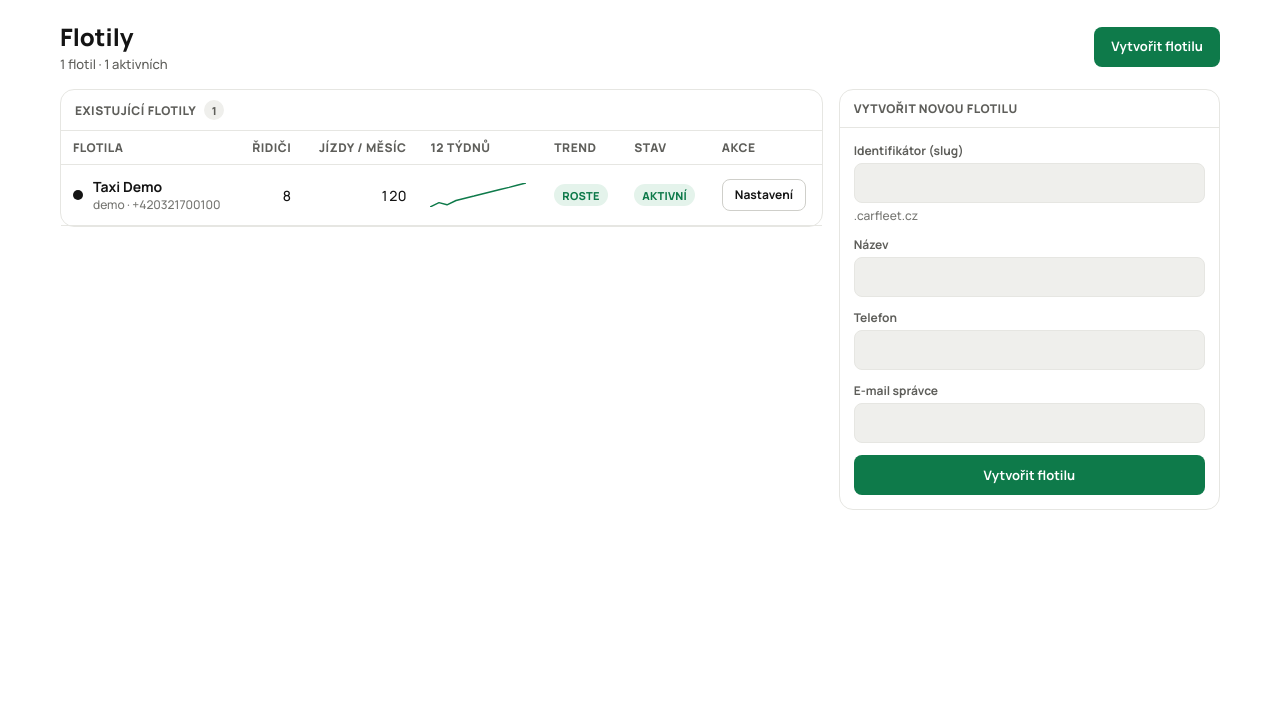
Test: AdminFleetsPage (UC-021 WI-7) › copies the one-time password to the clipboard
Expected: the text "Taxi Demo" is shown, x1=93 y1=177 x2=162 y2=196
Type "kolin" into the field labelled "Identifikátor (slug)".
click(1029, 183); type("kolin")  # box x1=865 y1=164 x2=1194 y2=202
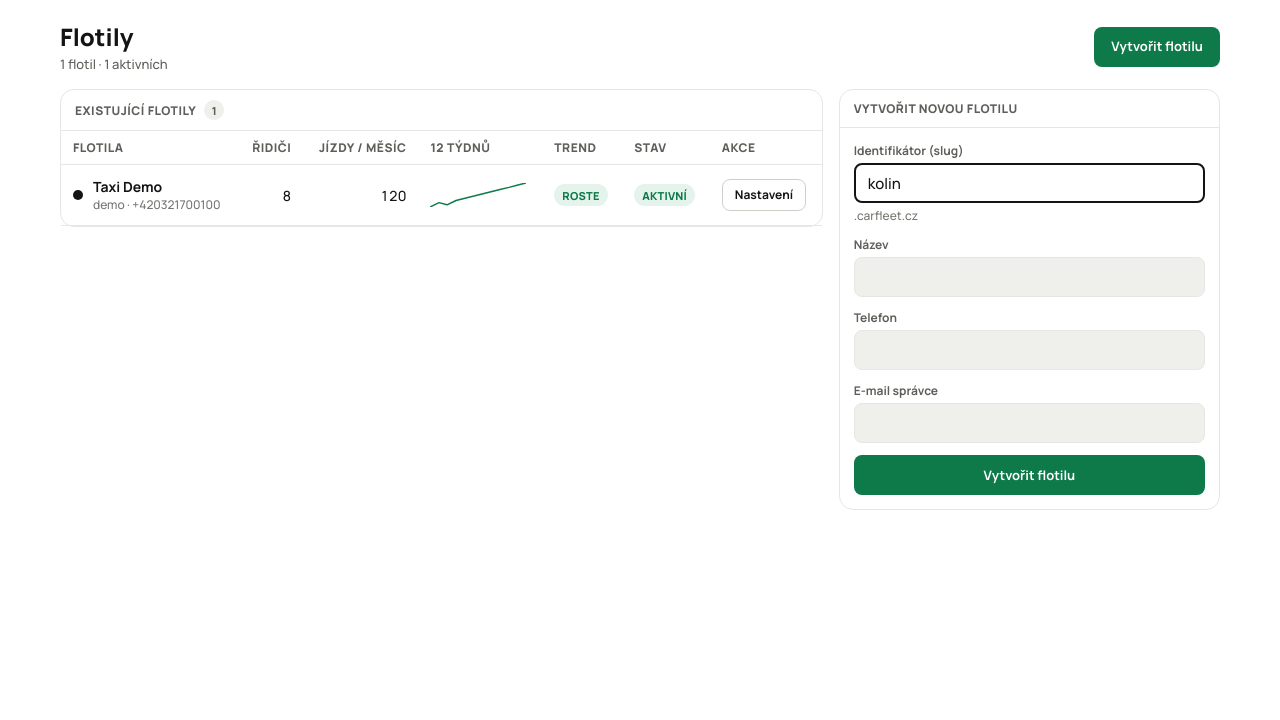
Type "Taxi Kolín" into the field labelled "Název".
click(1029, 277); type("Taxi Kolín")  # box x1=865 y1=258 x2=1194 y2=296
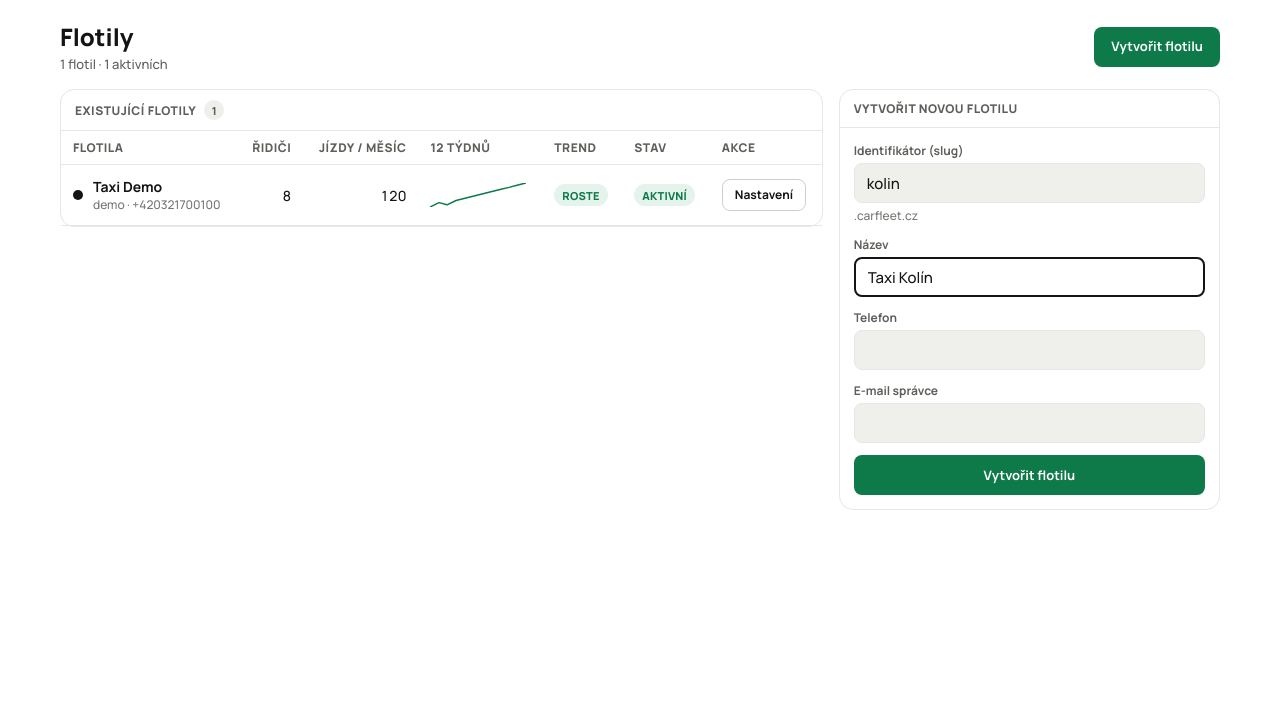
Type "+420321123456" into the field labelled "Telefon".
click(1029, 350); type("+420321123456")  # box x1=865 y1=331 x2=1194 y2=369
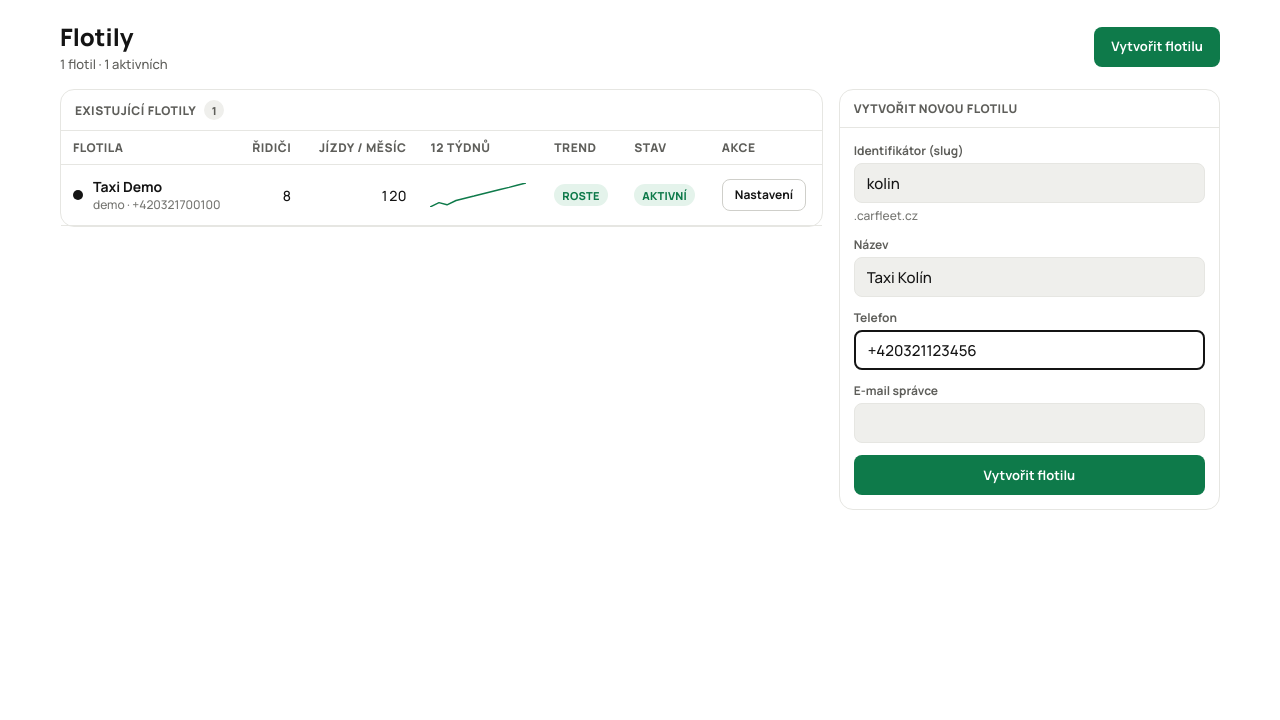
Type "admin@kolin.local" into the field labelled "E-mail správce".
click(1029, 423); type("admin@kolin.local")  # box x1=865 y1=404 x2=1194 y2=442
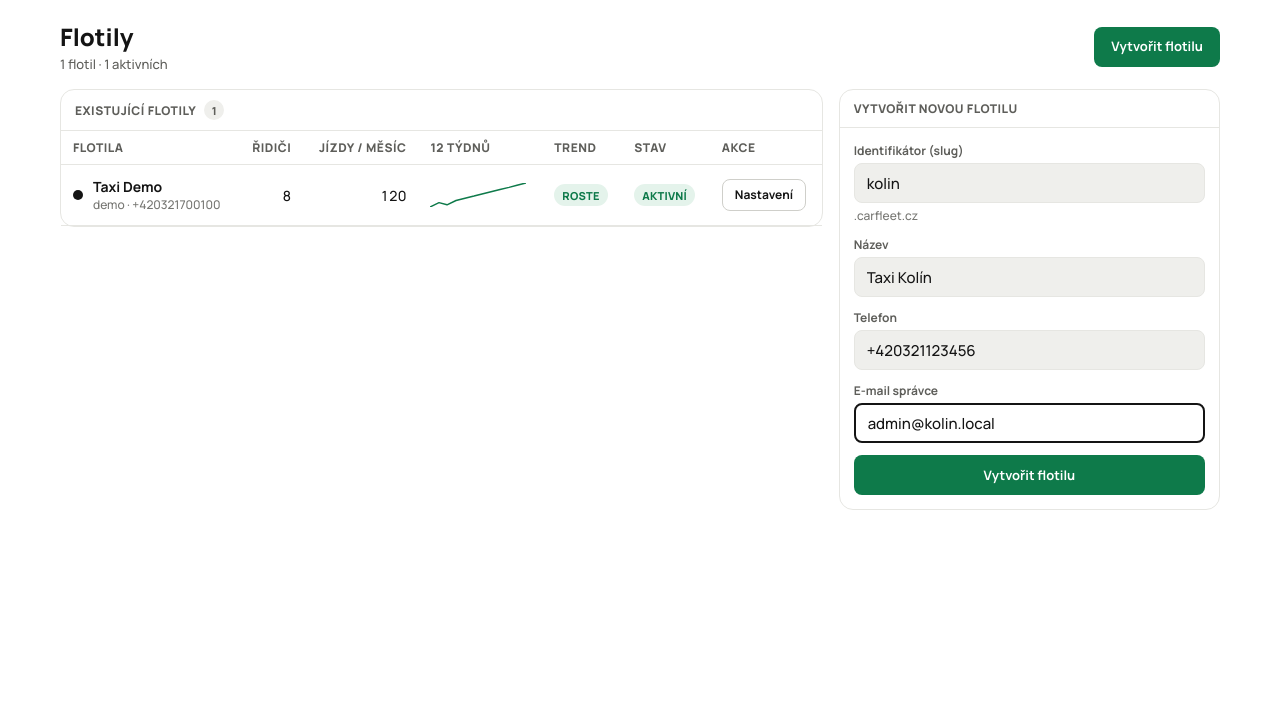
Click the button "Vytvořit flotilu" below "E-mail správce".
click(1029, 475)  # box x1=854 y1=455 x2=1205 y2=495
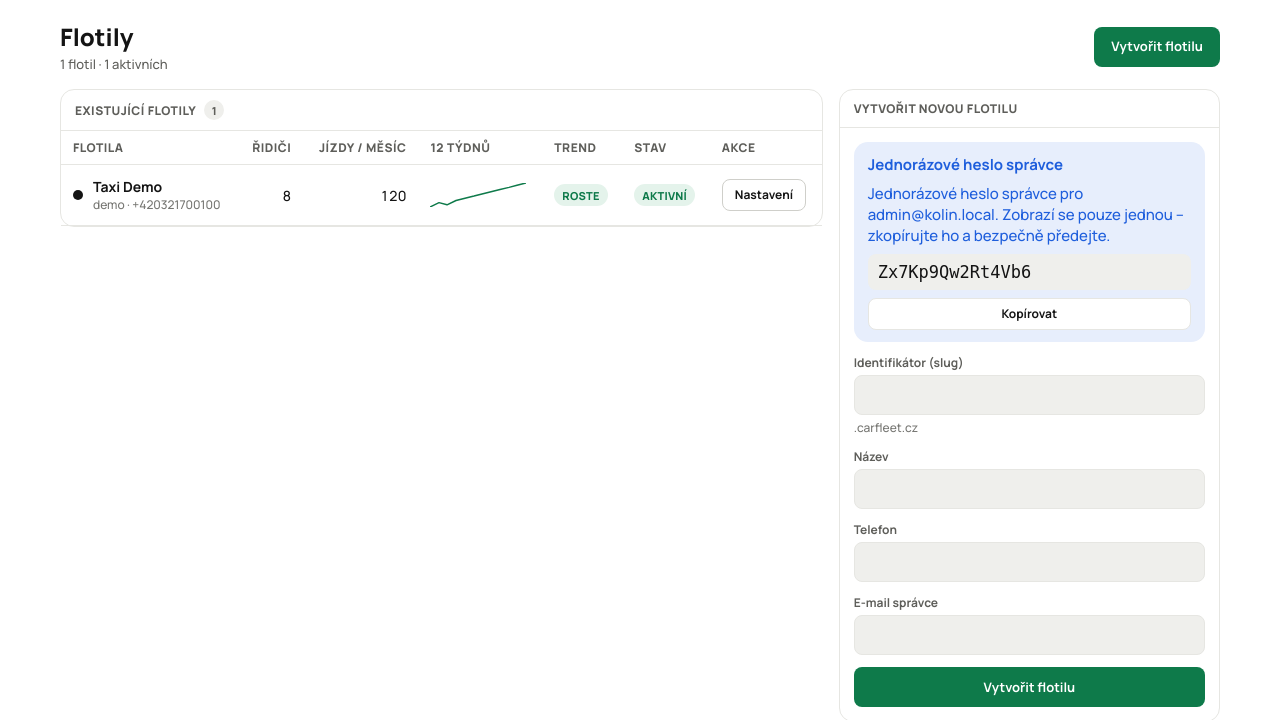
Now the text "Zx7Kp9Qw2Rt4Vb6" is shown, box x1=868 y1=254 x2=1191 y2=290
Click the button "Kopírovat".
click(1029, 314)  # box x1=868 y1=298 x2=1191 y2=330
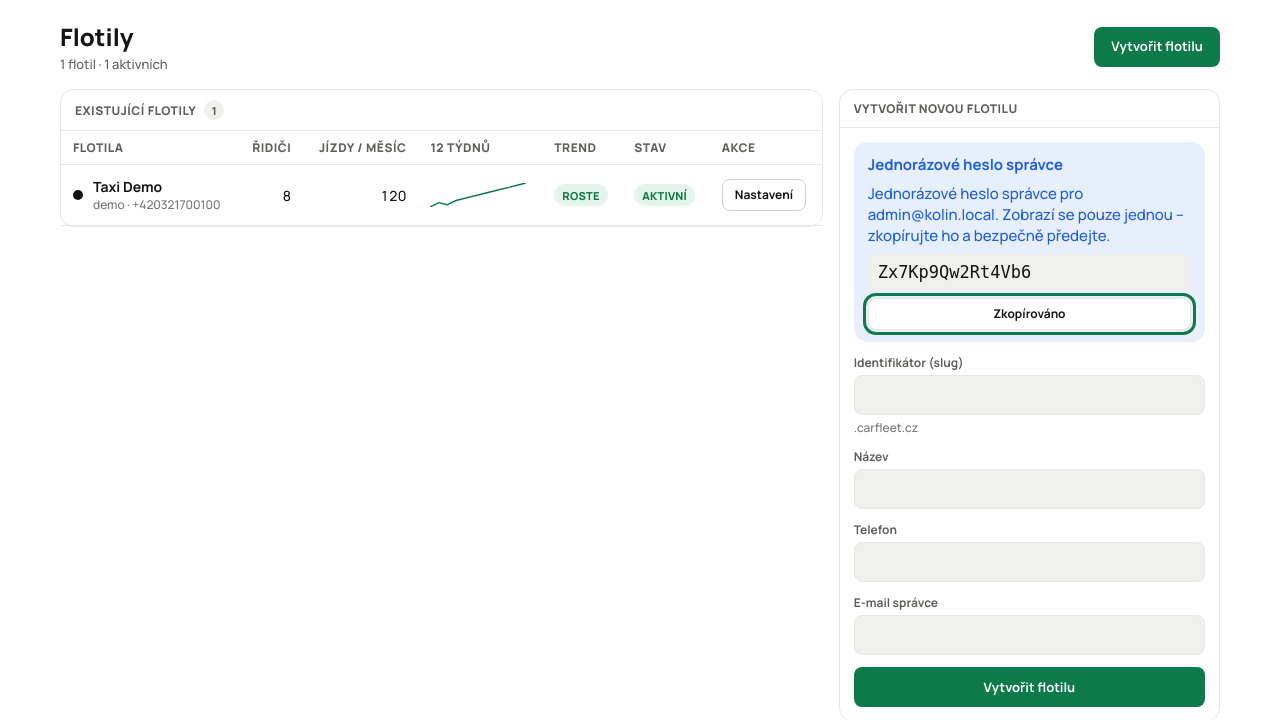
Now the button "Zkopírováno" is shown, box x1=868 y1=298 x2=1191 y2=330
